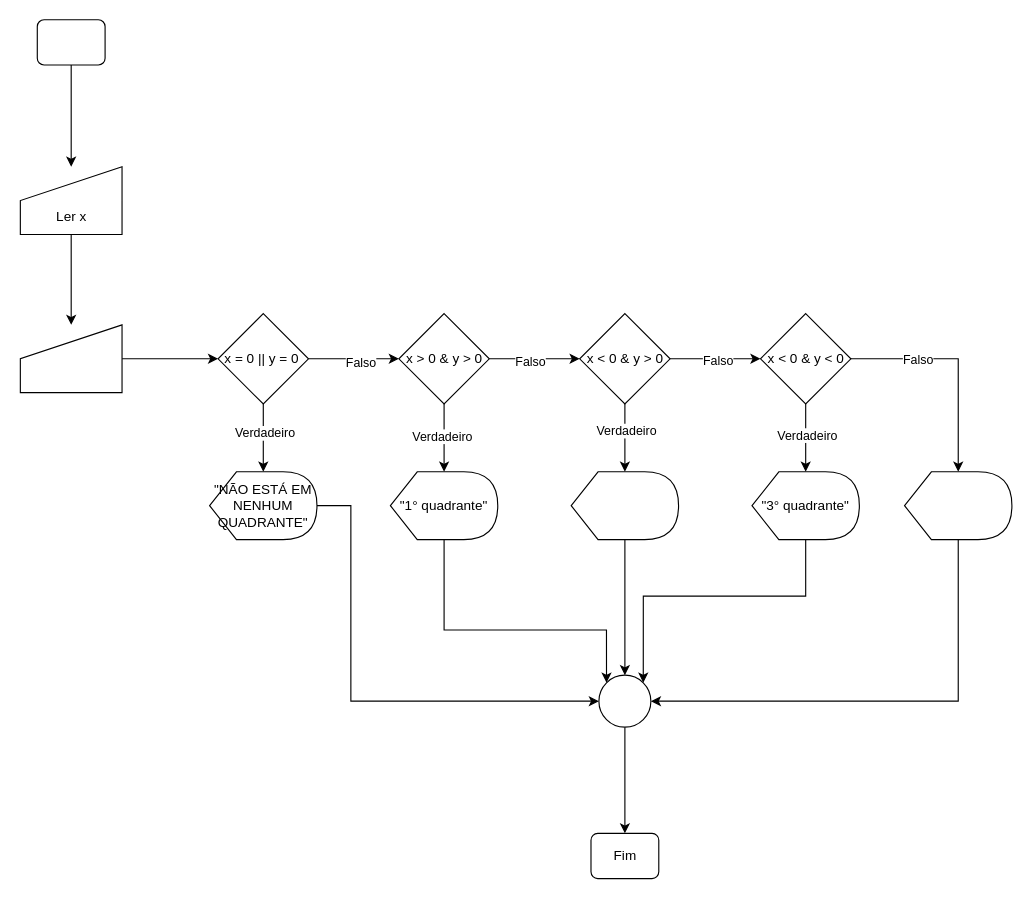
The diagram is 1032 pixels wide and 898 high, and some of its shapes have lost their labels. The box of each missing label's shape, as (x1, y1, x2, y2) in pixels:
"2 ° quadrante": (570, 471, 679, 540)
"4 ° quadrante": (903, 471, 1012, 540)
Início: (36, 19, 105, 65)
Ler y: (19, 324, 122, 393)
